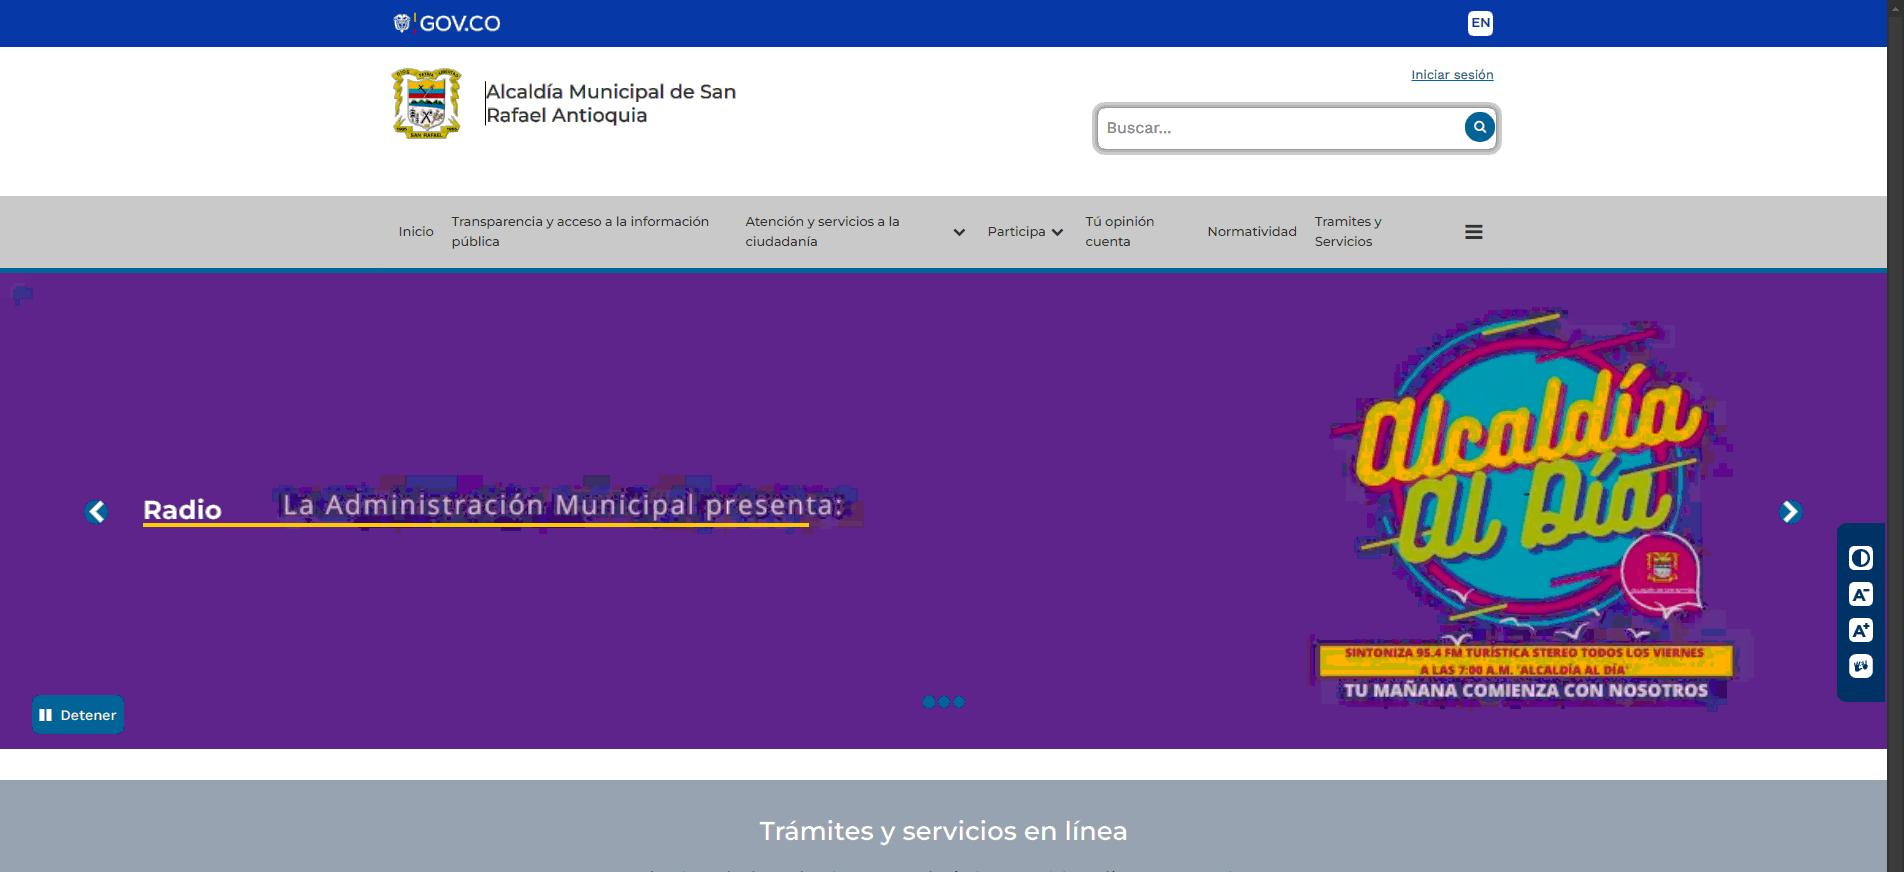banner principal: (0, 263, 1890, 751)
barra accesibilidad: (1835, 519, 1887, 703)
barra govco: (389, 1, 1497, 49)
btn atencion ciudadano: (740, 212, 968, 249)
btn buscador: (1093, 104, 1500, 153)
btn idiomas: (1467, 9, 1495, 36)
btn inicio: (397, 218, 435, 241)
btn inicio sesion: (1408, 63, 1497, 85)
btn normatividad: (1202, 218, 1299, 242)
btn participa: (983, 218, 1066, 245)
btn tramites: (737, 813, 1154, 855), (1311, 210, 1384, 248)
btn transpariencia: (449, 213, 713, 252)
menu principal: (395, 205, 1487, 258)
